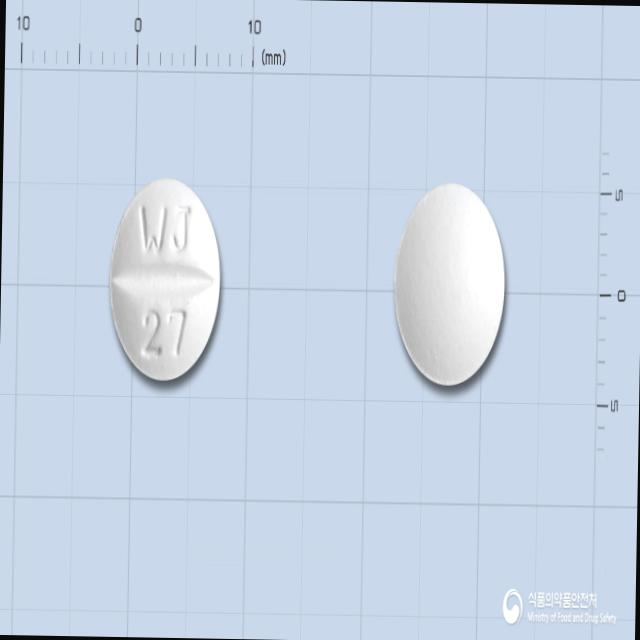Megarokshin: (108, 178, 222, 384)
